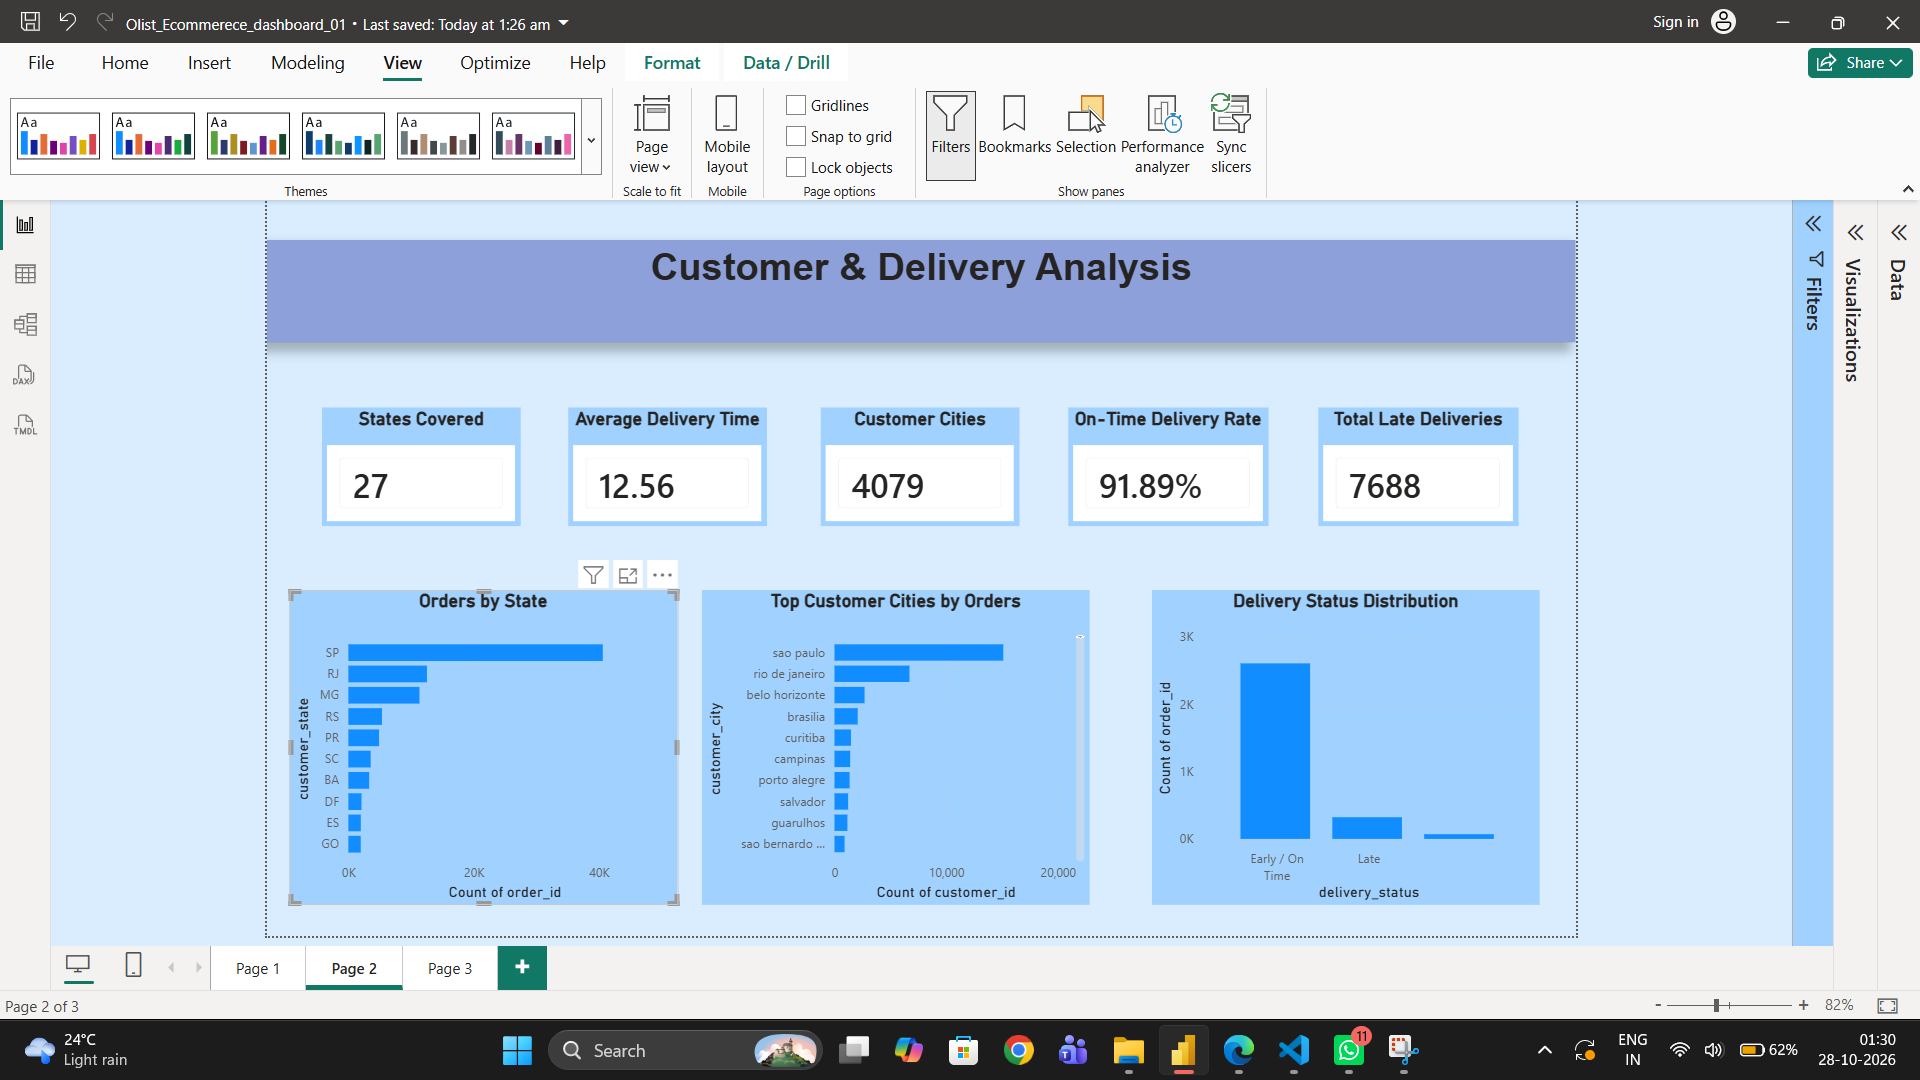

What the dashboard file says about the page in this screenshot:
{"tool":"powerbi","page":{"name":"Page 2","canvas":[1280,720],"ordinal":1},"visuals":[{"type":"cardVisual","title":"States Covered","fields":{"Data":["Count(olist_master_dataset.customer_state)"]},"box":[53.8,203,194.4,116.2],"z":0},{"type":"cardVisual","title":"Average Delivery Time","fields":{"Data":["olist_master_dataset.Avg Delivery Days Per Order"]},"box":[294.7,203,194.4,116.2],"z":1000},{"type":"cardVisual","title":"On-Time Delivery Rate","fields":{"Data":["olist_master_dataset.On-Time Delivery Rate"]},"box":[783.8,203,195.7,116.2],"z":2000},{"type":"cardVisual","title":"Customer Cities","fields":{"Data":["Count(olist_master_dataset.customer_city)"]},"box":[541.7,203,194.4,116.2],"z":3000},{"type":"cardVisual","title":"Total Late Deliveries","fields":{"Data":["olist_master_dataset.Total Late Deliveries"]},"box":[1028.4,203,195.7,116.2],"z":4000},{"type":"clusteredBarChart","title":"Orders by State","fields":{"Category":["olist_master_dataset.customer_state"],"Y":["Count(olist_master_dataset.order_id)"]},"box":[22.6,380.9,379.3,308.3],"z":5000},{"type":"clusteredBarChart","title":"Top  Customer Cities by Orders","fields":{"Category":["olist_master_dataset.customer_city"],"Y":["Count(olist_master_dataset.customer_id)"]},"box":[426.1,380.9,379.3,308.3],"z":6000},{"type":"clusteredColumnChart","title":"Delivery Status Distribution","fields":{"Category":["olist_master_dataset.delivery_status"],"Y":["CountNonNull(olist_master_dataset.order_id)"]},"box":[865.2,380.9,379.3,308.3],"z":7000},{"type":"textbox","box":[0,39.1,1280.3,100.3],"z":8000}]}

Visuals, with their boxes on the page's 1280x720 design canvas (x1, y1, x2, y2). These are canvas units, not pixel positions in the 1920x1080 screenshot, which may show the page scaled, cropped or inside an application window:
"States Covered" cardVisual: select_region(54, 203, 248, 319)
"Average Delivery Time" cardVisual: select_region(295, 203, 489, 319)
"On-Time Delivery Rate" cardVisual: select_region(784, 203, 980, 319)
"Customer Cities" cardVisual: select_region(542, 203, 736, 319)
"Total Late Deliveries" cardVisual: select_region(1028, 203, 1224, 319)
"Orders by State" clusteredBarChart: select_region(23, 381, 402, 689)
"Top  Customer Cities by Orders" clusteredBarChart: select_region(426, 381, 805, 689)
"Delivery Status Distribution" clusteredColumnChart: select_region(865, 381, 1244, 689)
textbox: select_region(0, 39, 1280, 139)
